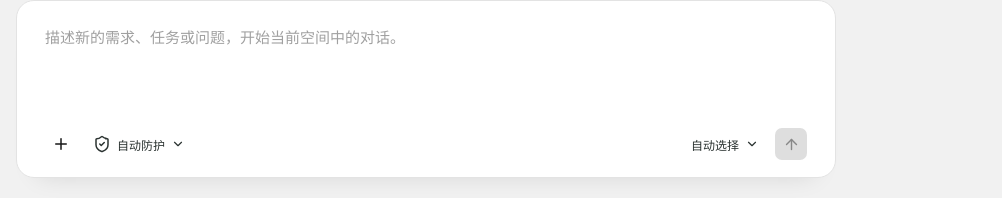
Test: conversation model selection › keeps the space prompt and publishes a safe Toast when creation fails
Type "Retry this space conversation" into the text box named "空间对话内容" at (426, 75), box [45,26,807,124]
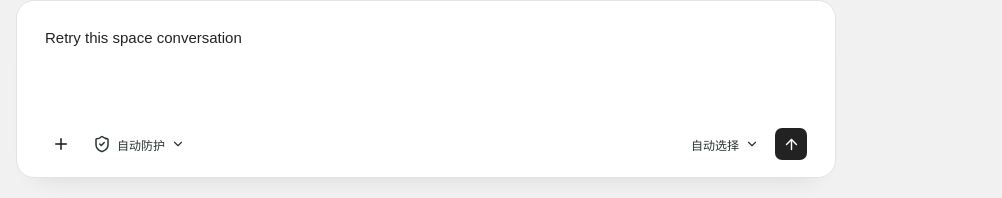
Click the button named "发送空间消息" at (791, 144), box [775,128,807,160]
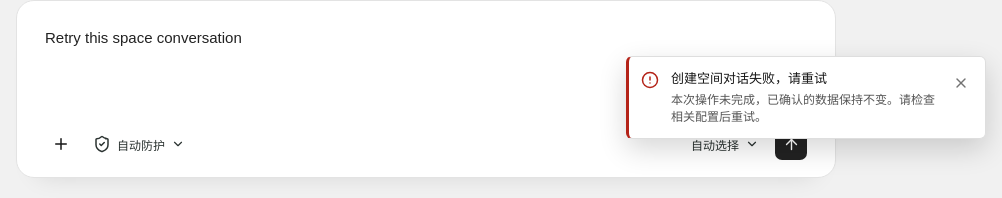
Expected: the text "创建空间对话失败，请重试" is shown, [671,71,827,86]
